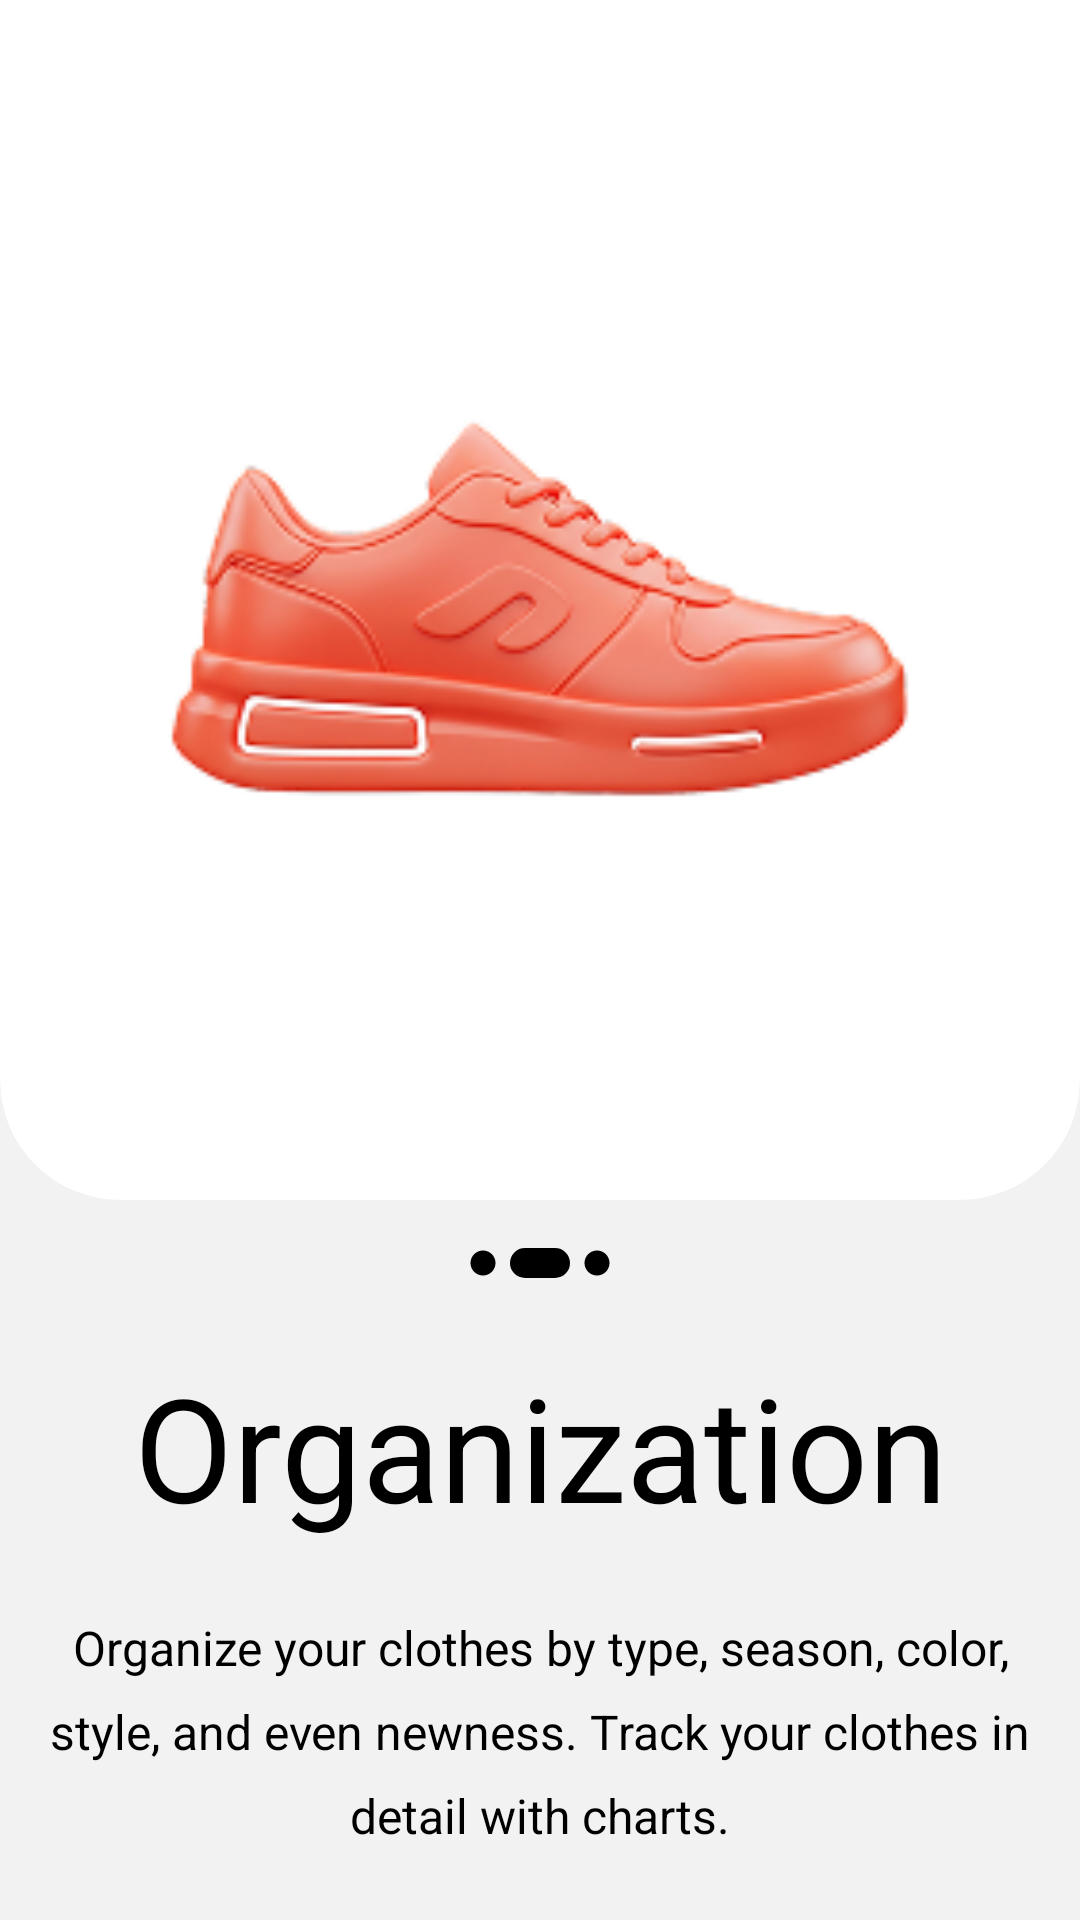

Screen size 1080px×1920px. Icon name, then its center in pixels as (x=x, y=y):
dot: (x=540, y=1263), (x=483, y=1263), (x=597, y=1263)
